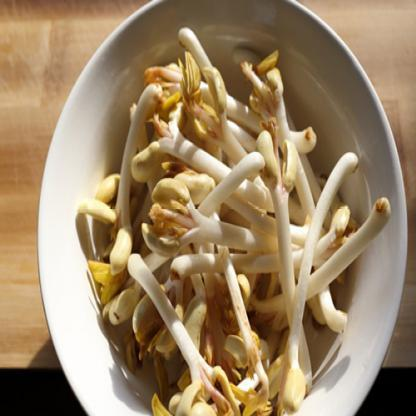bean sprouts: (115, 78, 353, 402)
